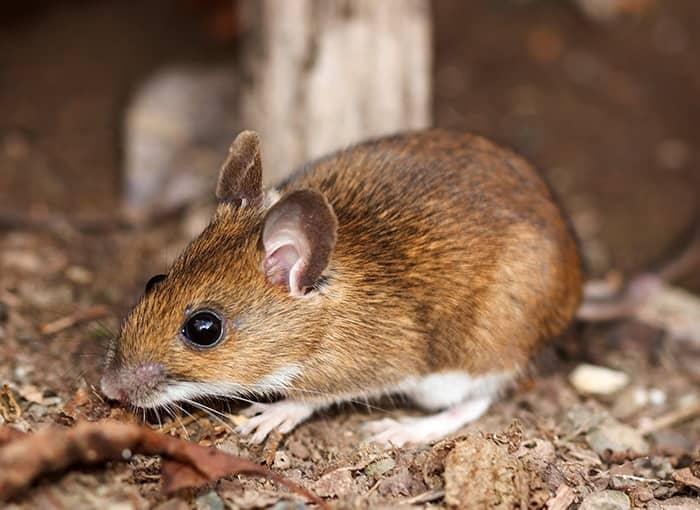rat: (99, 130, 582, 454)
